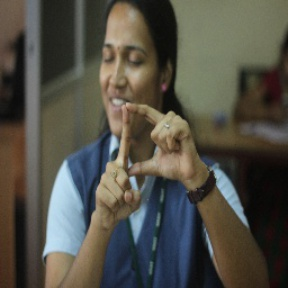D: (104, 97, 195, 201)
